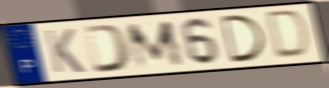6: (179, 16, 222, 67)
D: (82, 22, 133, 75), (218, 13, 268, 65), (266, 8, 312, 61)
K: (42, 28, 87, 75)
M: (124, 18, 187, 71)
